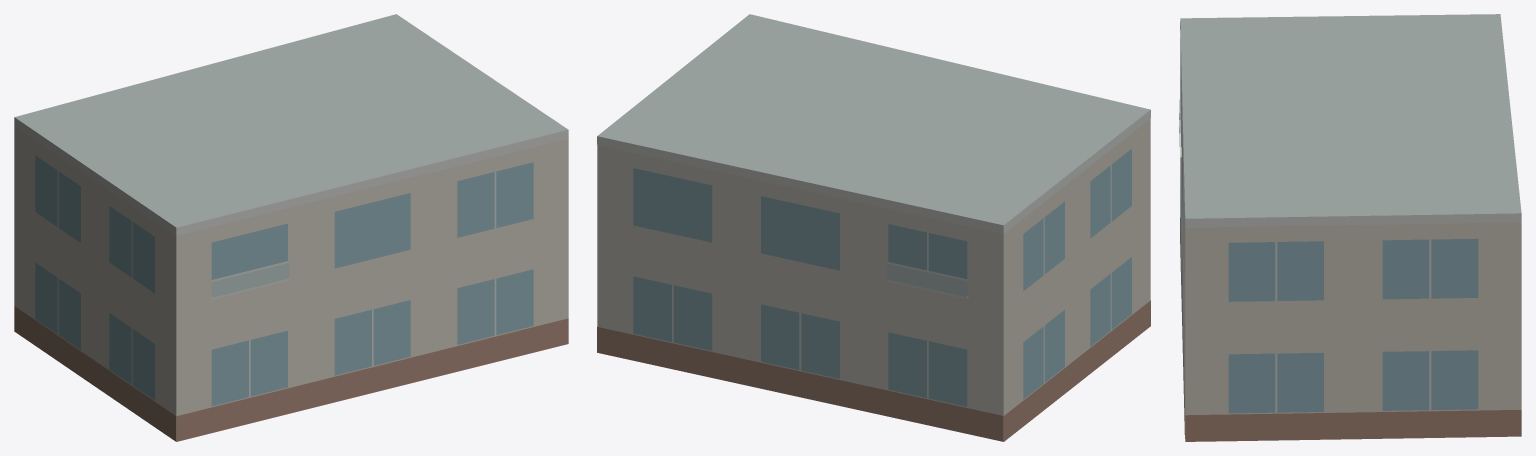
The model's file is survey-upis-32884047.glb.
3 renders of one model, left to right at view 1: azimuth 30°, elevation 25°; view 2: azimuth 150°, elevation 25°; view 3: azimuth 270°, elevation 25°, orthographic. The views are drawn at different scales.
Visible parts, largest first — view 1: survey-upis-32884047.tmp; view 2: survey-upis-32884047.tmp; view 3: survey-upis-32884047.tmp.
Part boxes in pixels (box(x1,y1,x2,y2)): survey-upis-32884047.tmp: box(14, 14, 568, 441); survey-upis-32884047.tmp: box(597, 14, 1150, 441); survey-upis-32884047.tmp: box(1179, 14, 1521, 441).
Size of the model in its own units: 12.01 by 6.1 by 8.49.
